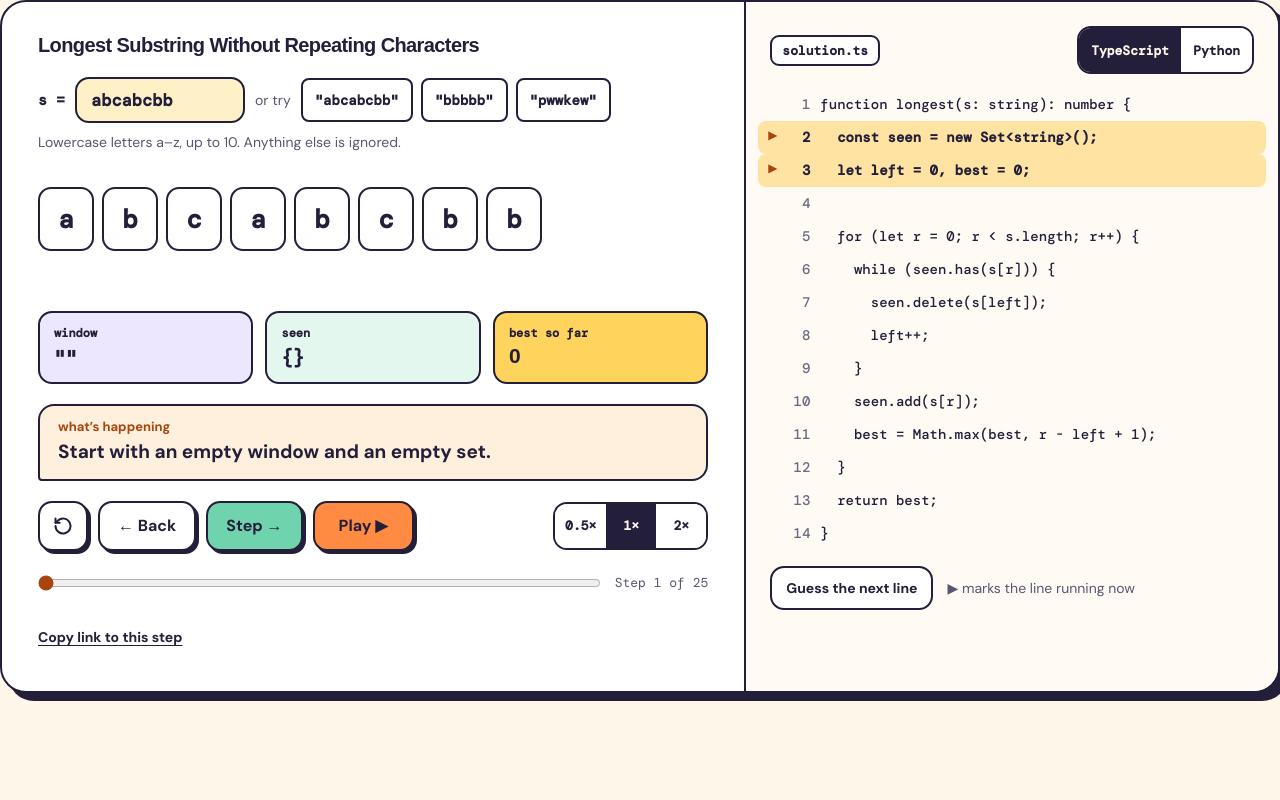
Test: VisualizerPlayer › resets to step 1 with the Reset button
The image size is (1280, 800).
Press ArrowRight in the element named "visualizer. use left and right arrow keys"
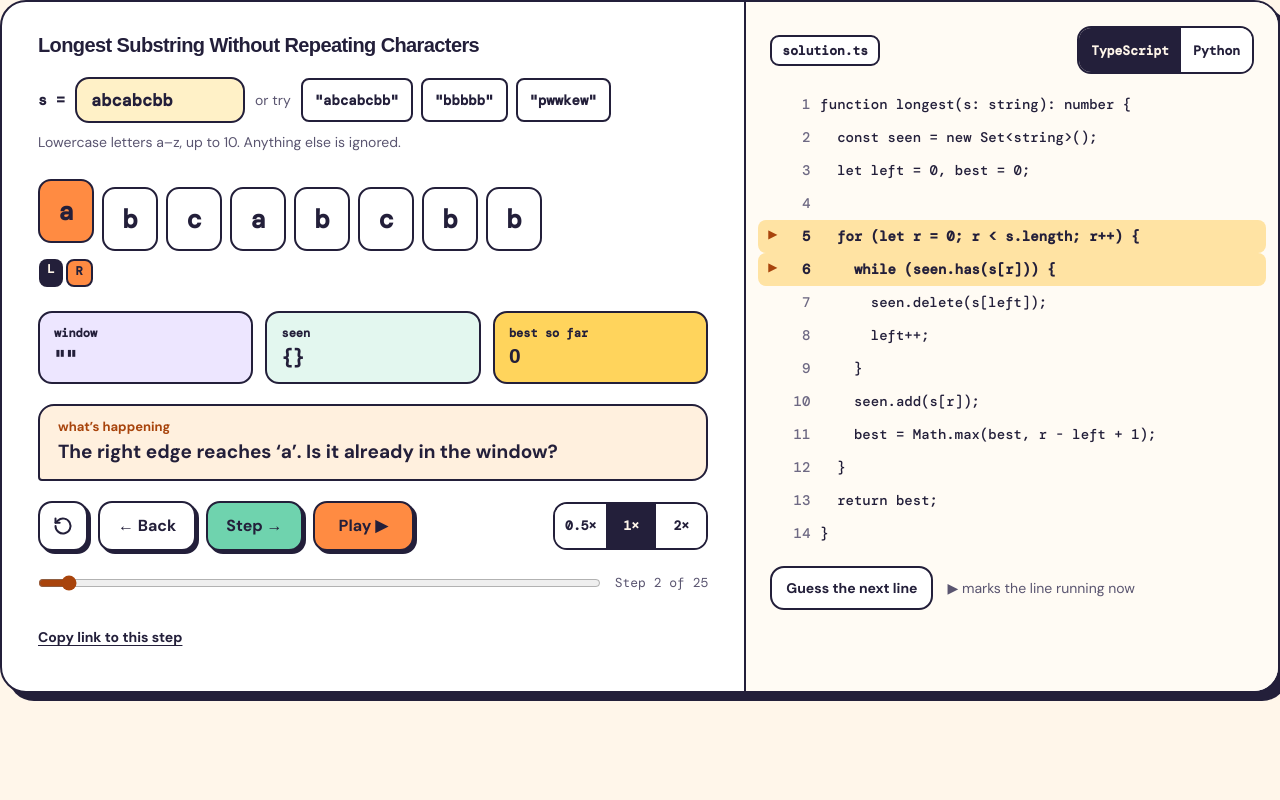
Check: the text "Step 2 of 25" is shown, box [615, 574, 708, 591]
Click the button named "Reset to the first step" at (63, 526), box [38, 501, 88, 551]
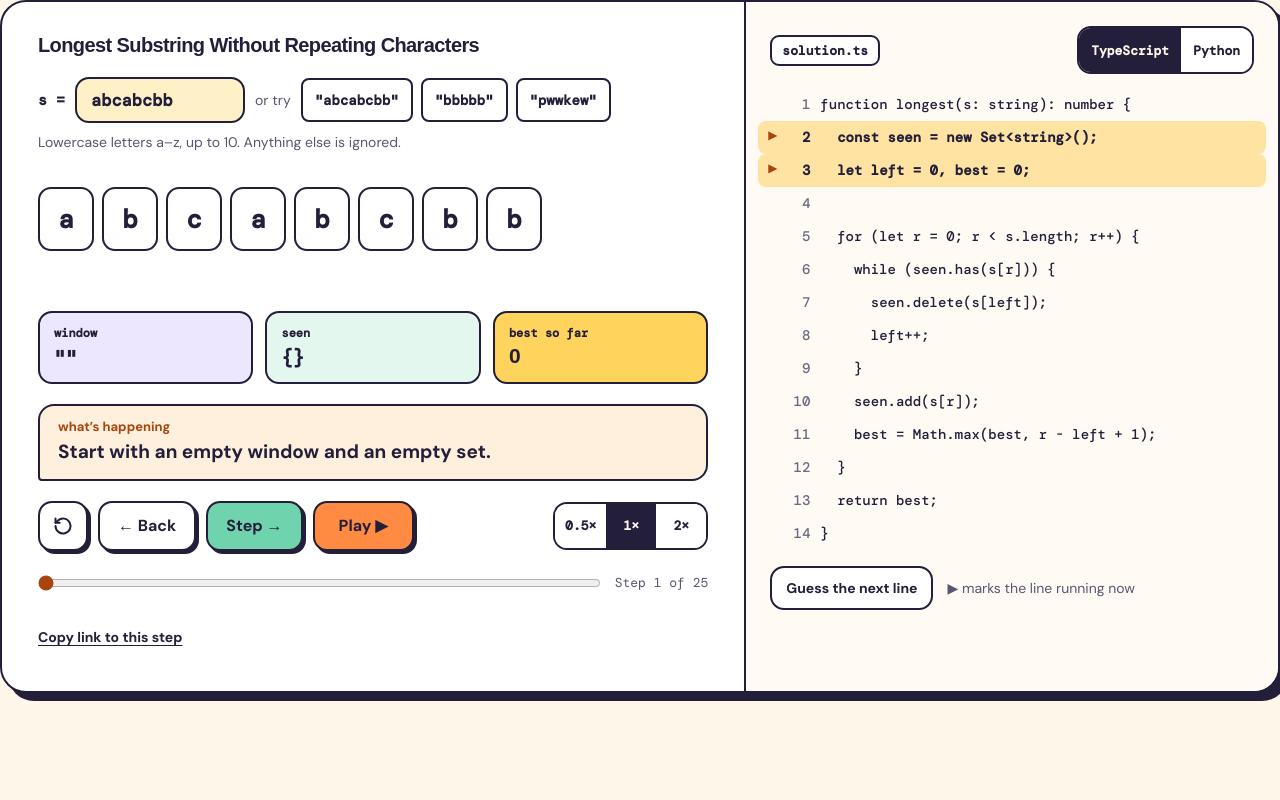
Check: the text "Step 1 of 25" is shown, box [615, 574, 708, 591]
